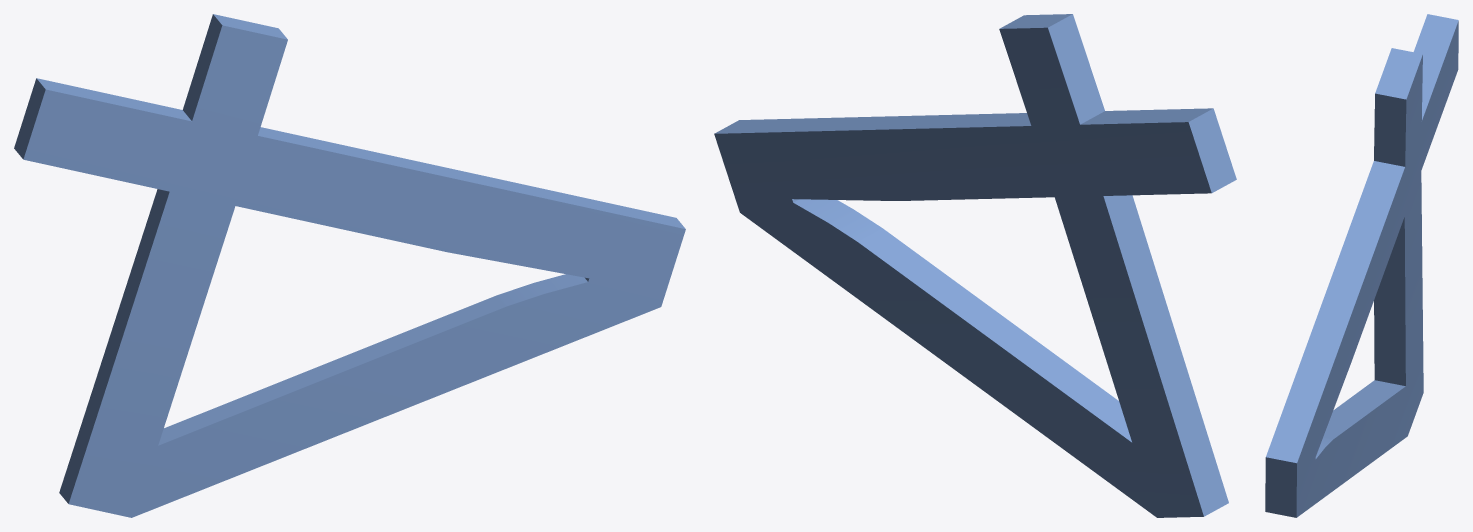
The model's file is Number_4.gltf.
The picture shows the model from 3 angles, left to right: view 1: azimuth 30°, elevation 25°; view 2: azimuth 150°, elevation 25°; view 3: azimuth 270°, elevation 25°; orthographic projection. The views are drawn at different scales.
Parts seen in each view (by area): view 1: Sub_6_Cell_3_1_Number_4; view 2: Sub_6_Cell_3_1_Number_4; view 3: Sub_6_Cell_3_1_Number_4.
Part boxes in pixels (bbox=[...]): Sub_6_Cell_3_1_Number_4: bbox=[14, 14, 685, 517]; Sub_6_Cell_3_1_Number_4: bbox=[714, 14, 1236, 517]; Sub_6_Cell_3_1_Number_4: bbox=[1265, 14, 1458, 517].
Size of the model in its own units: 0.0243 by 0.0185 by 0.00757.
